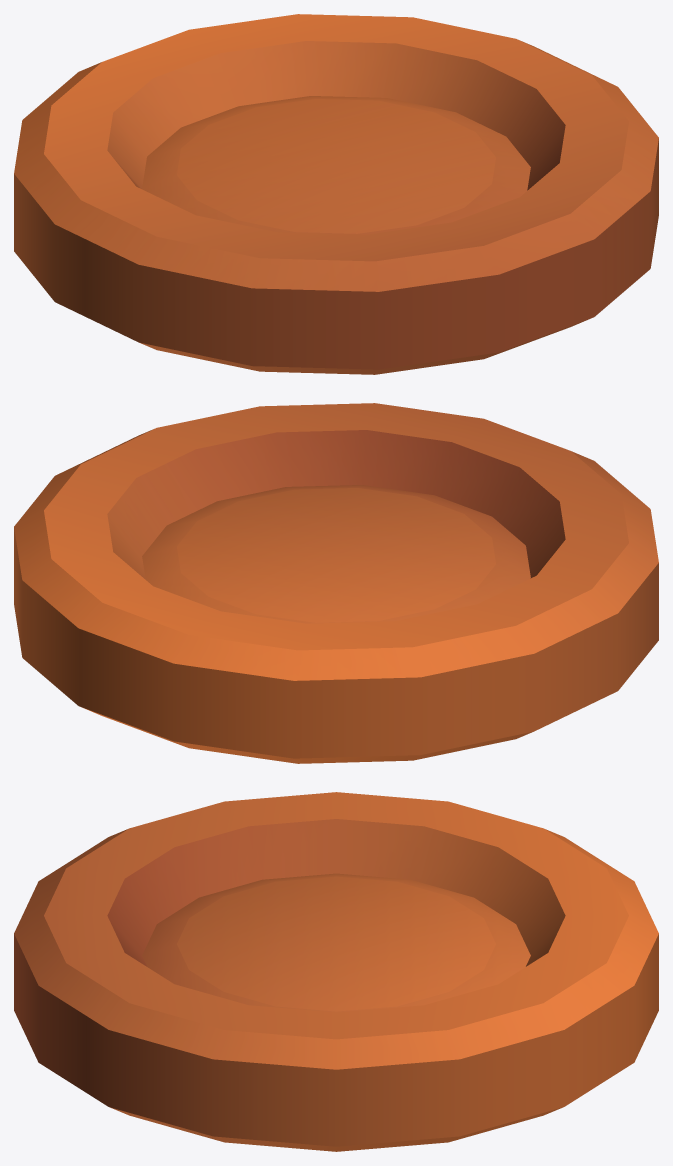
The model's file is coin-copper.glb.
The picture shows the model from 3 angles, top to bottom: view 1: azimuth 30°, elevation 25°; view 2: azimuth 150°, elevation 25°; view 3: azimuth 270°, elevation 25°; orthographic projection.
Parts seen in each view (by area): view 1: coin_copper; view 2: coin_copper; view 3: coin_copper.
Part boxes in pixels (x1=…): coin_copper: x1=14, y1=14, x2=658, y2=374; coin_copper: x1=14, y1=403, x2=658, y2=763; coin_copper: x1=14, y1=792, x2=658, y2=1151.
Size of the model in its own units: 1.04 by 0.2 by 1.04.
1 material, 1 textured.
